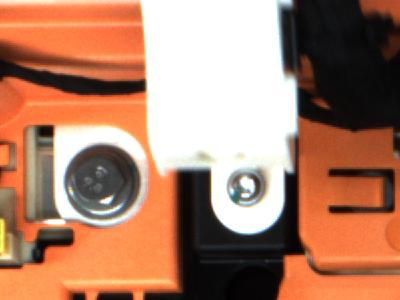nut_b: (65, 146, 140, 219)
screw_m: (216, 164, 272, 222)
